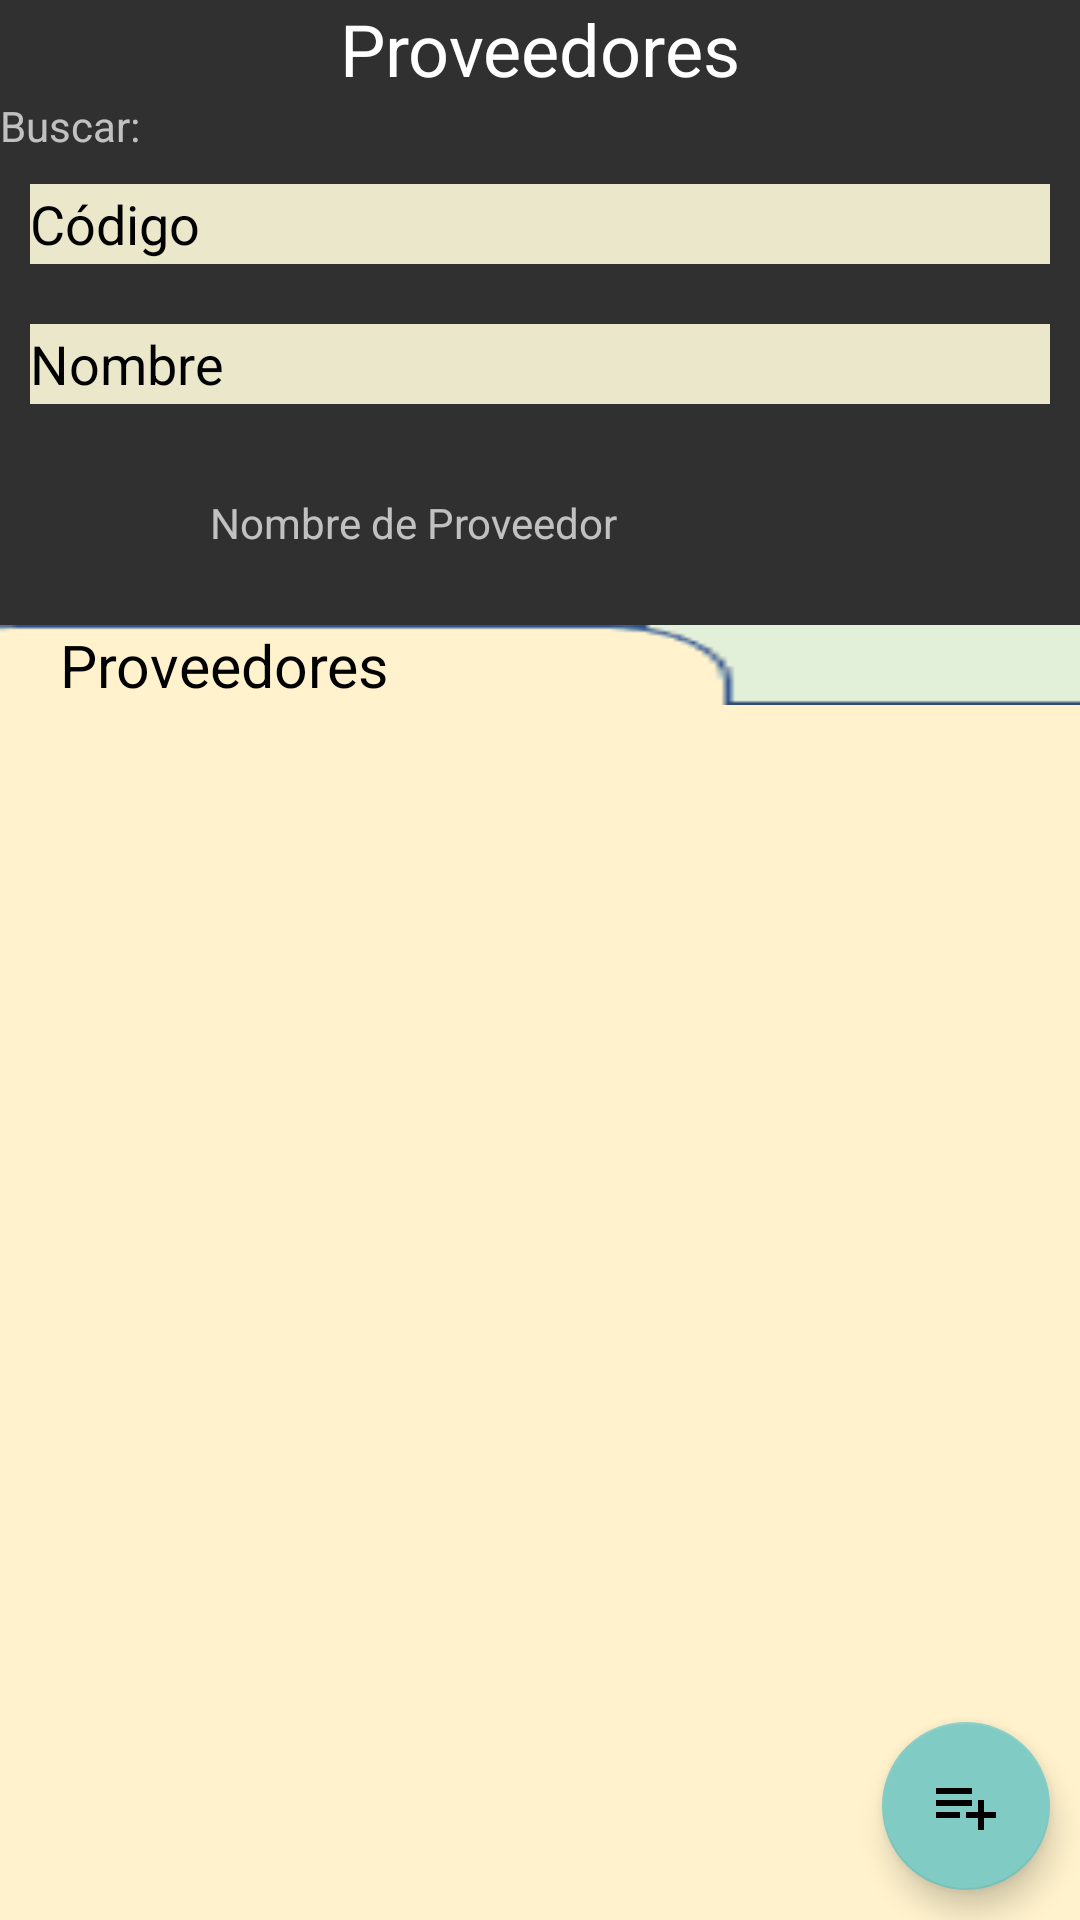

Screen size 1080px×1920px. Icon name, then its box in pixels as [left=x1, top=y1, right=x2, bottom=y2]:
playlist add: [left=882, top=1722, right=1050, bottom=1890]
